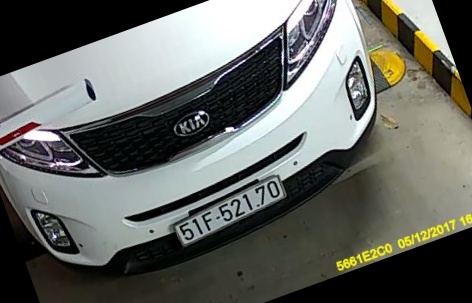plate: (171, 177, 288, 252)
